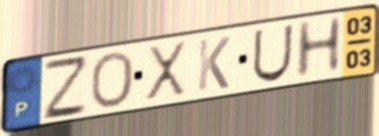H: (293, 13, 346, 82)
K: (195, 35, 232, 93)
O: (88, 49, 136, 110)
U: (250, 22, 296, 85)
X: (142, 38, 188, 102)
Z: (42, 54, 90, 123)
